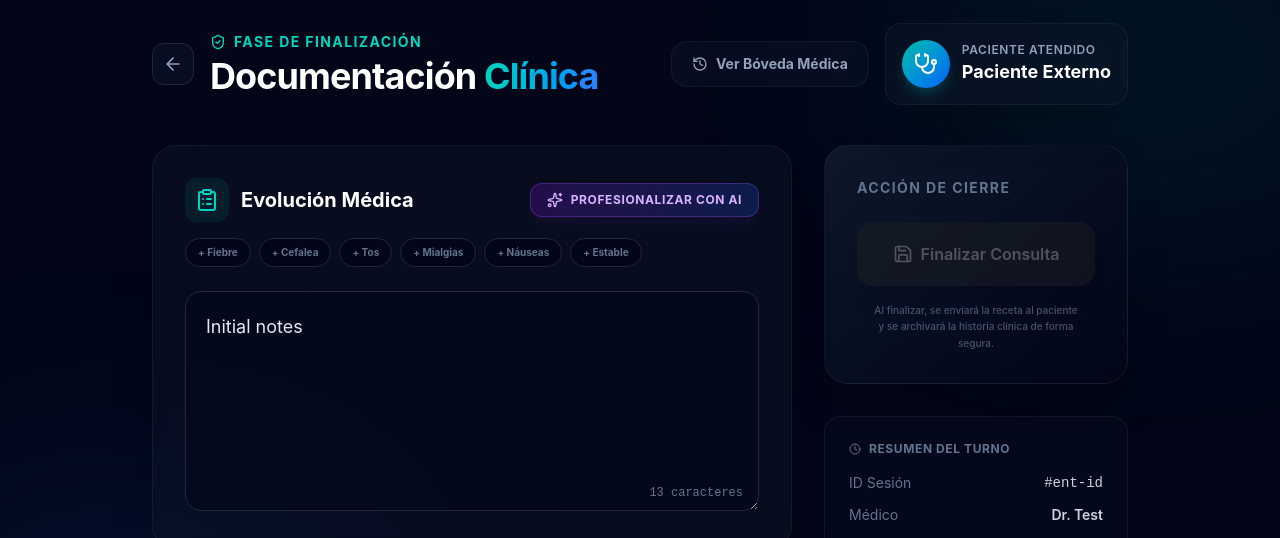
Test case: PostConsultation Page › shows error if diagnosis is empty when saving
Check: the heading "Documentación Clínica" is shown, box [210,56,598,96]
Step 1. Click the button "Finalizar Consulta" → [976, 254], box [857,222,1095,286]
(page scrolled)
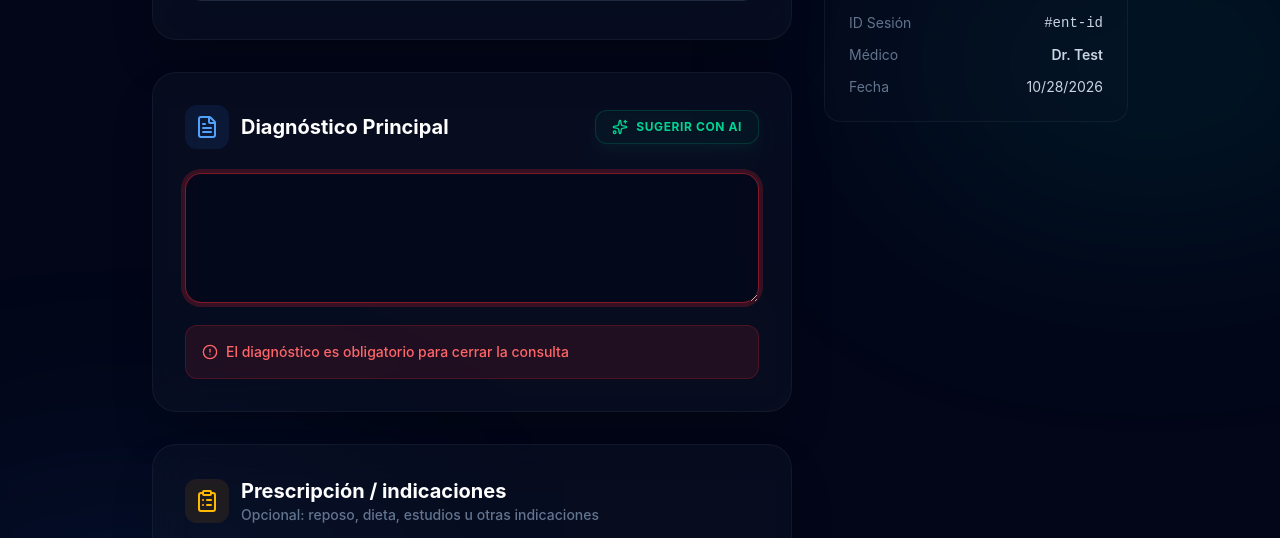
Check: the text "El diagnóstico es obligatorio para cerrar la consulta" is shown, box [226,342,569,362]
